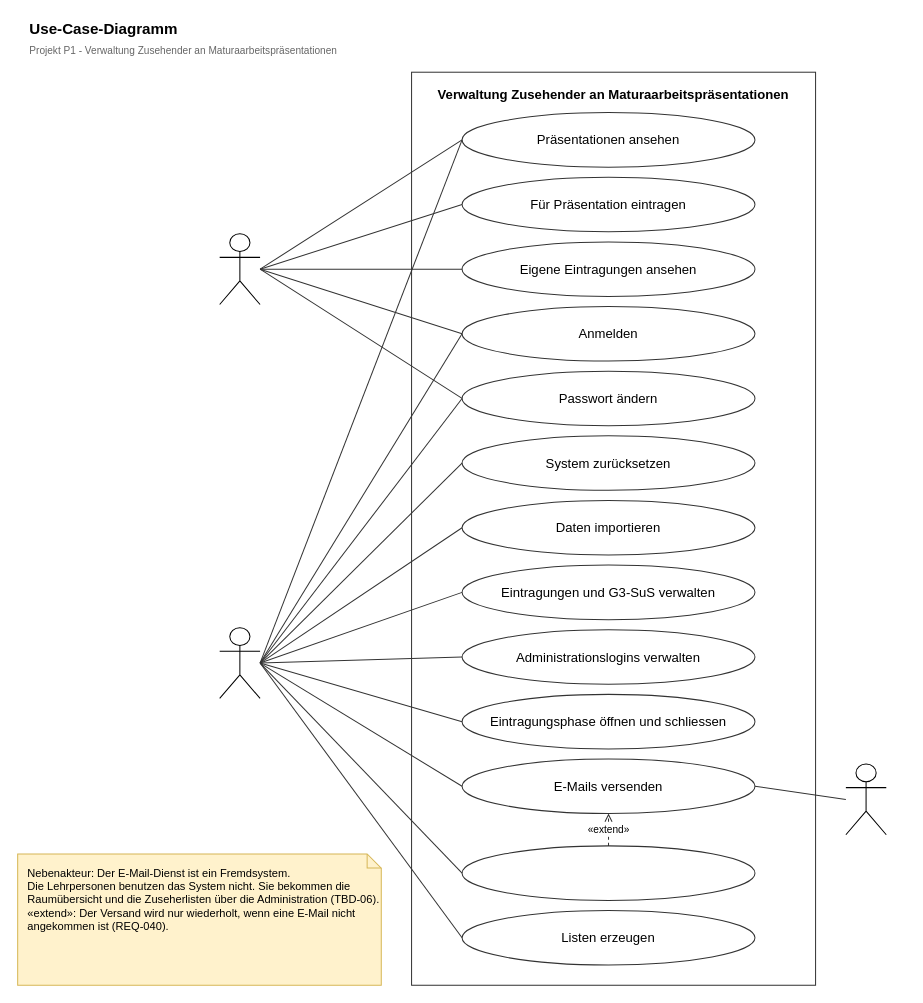
The diagram is 923 pixels wide and 1003 high, and some of its shapes have lost their labels. Here are the shapes that lost their labels. From the top down, the centre of each, then its label:
At point 239,269: "G3-SuS".
At point 239,662: "Administration".
At point 865,799: "E-Mail-Dienst".
At point 608,872: "Versand wiederholen".
